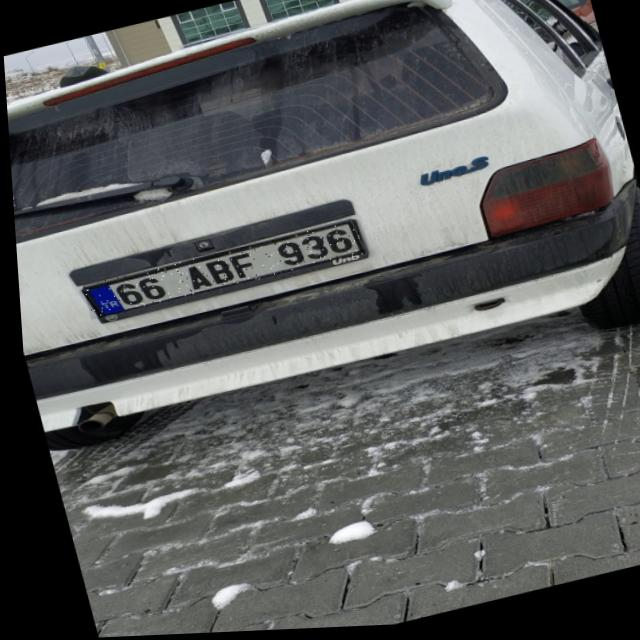license_plate: (76, 222, 364, 320)
